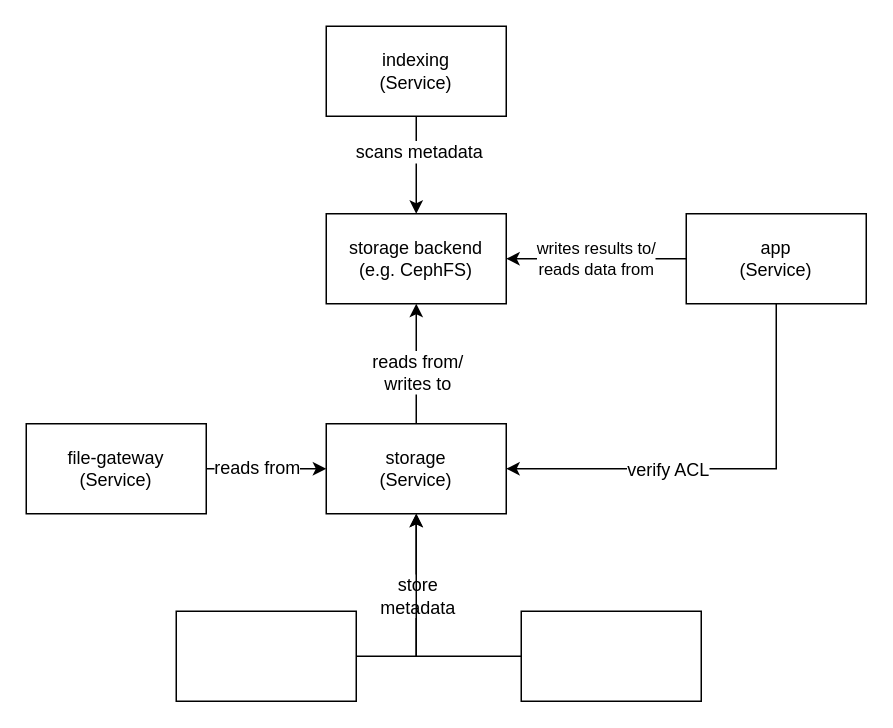
The diagram is 893 pixels wide and 728 high, and some of its shapes have lost their labels. The centre of each missing label's shape, as x and y in pixels:
"file-favorite (Service)" belongs at (265,655).
"share (Service)" belongs at (610,655).
